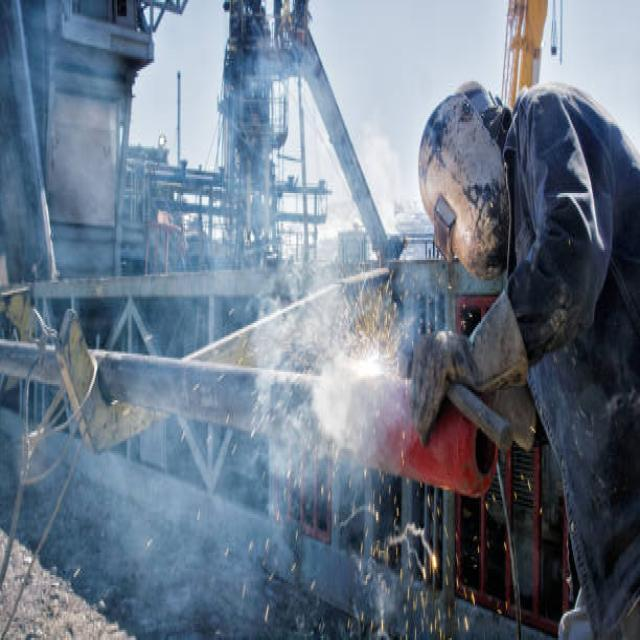with_helmet: (418, 86, 512, 283)
